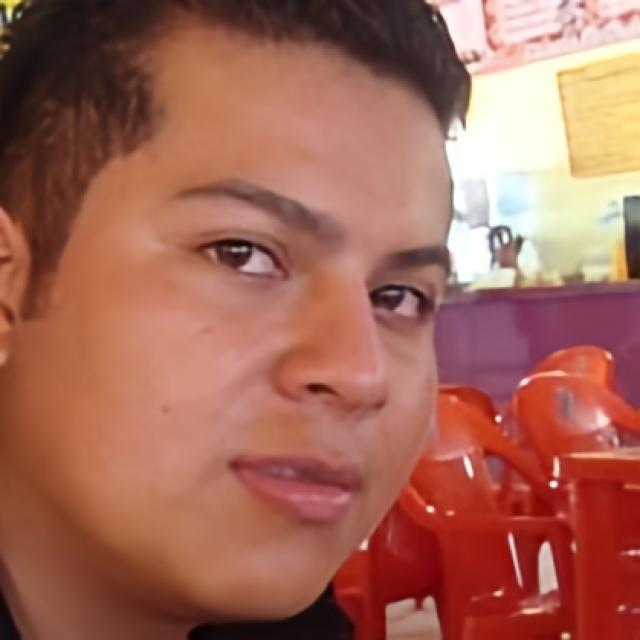content: (28, 14, 456, 622)
